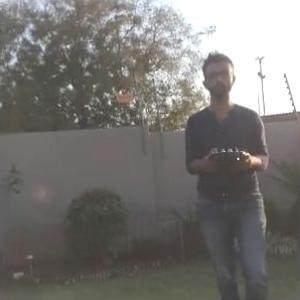follow: (181, 44, 275, 299)
